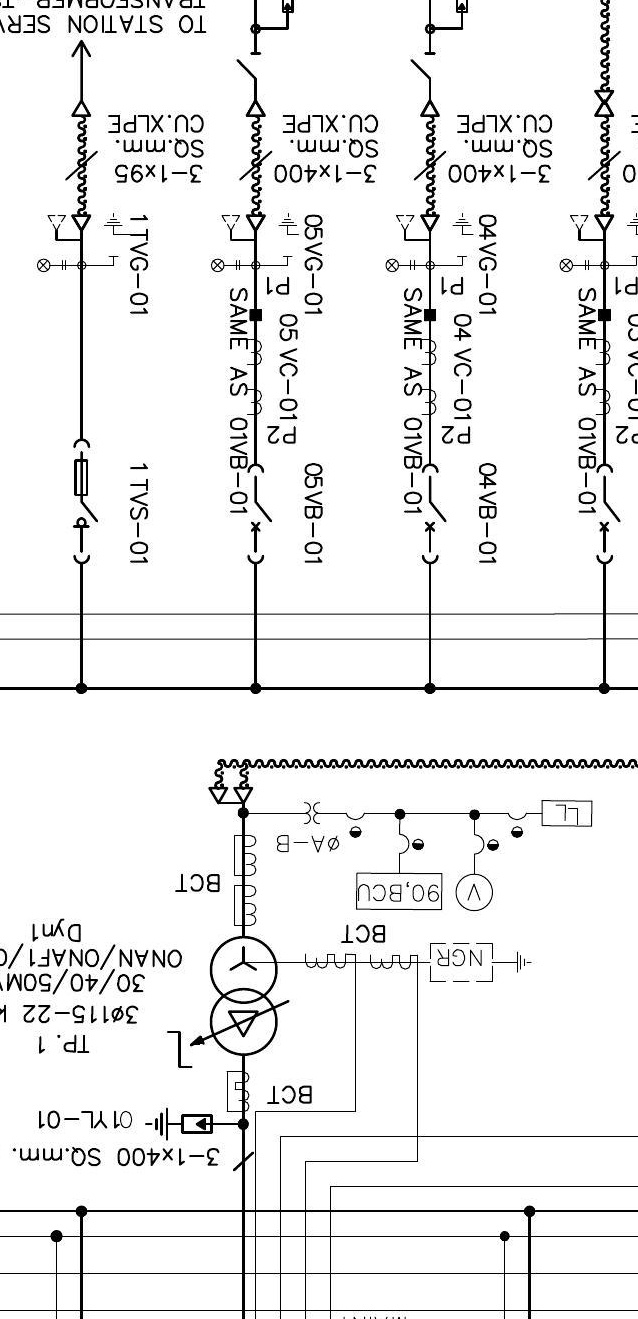11522_tx_dyn1: (209, 935, 279, 1056)
115_la: (145, 1107, 214, 1141)
22_breaker: (421, 462, 448, 565), (595, 463, 622, 565), (246, 463, 273, 565)
22_ds: (72, 438, 99, 566)
22_gs: (104, 213, 132, 259), (451, 213, 475, 259), (278, 213, 301, 259)
22_ll: (559, 258, 590, 273), (385, 258, 416, 273), (210, 258, 241, 273), (36, 258, 67, 273)
LL: (540, 798, 594, 828)
NGR_future: (429, 942, 532, 983)
terminator_double: (207, 786, 254, 805)
terminator_single: (70, 100, 92, 118), (245, 100, 267, 118), (419, 100, 441, 118)
terminator_splicing_kits: (594, 90, 615, 118)
terminator_w_future: (568, 213, 615, 243), (221, 213, 268, 243), (46, 213, 93, 243), (394, 214, 441, 243)
v_m: (454, 873, 494, 912)
